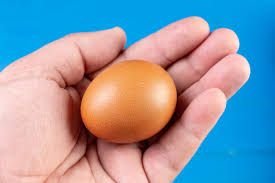egg: (81, 60, 178, 141)
